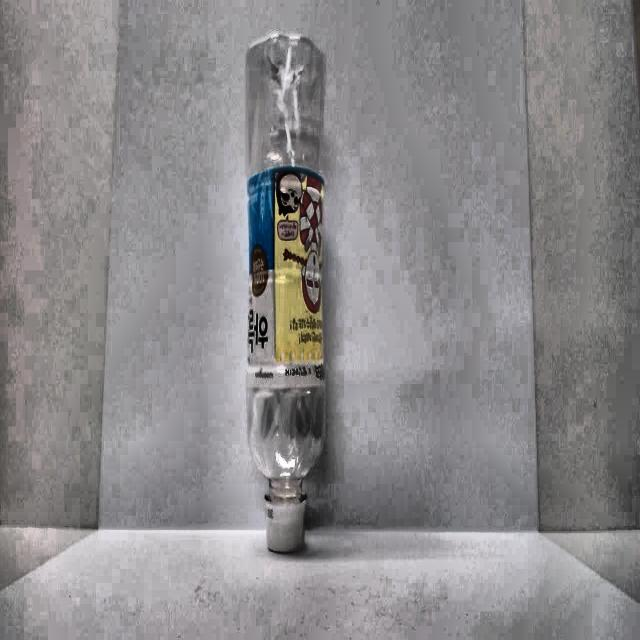Bottles: (223, 13, 352, 586)
